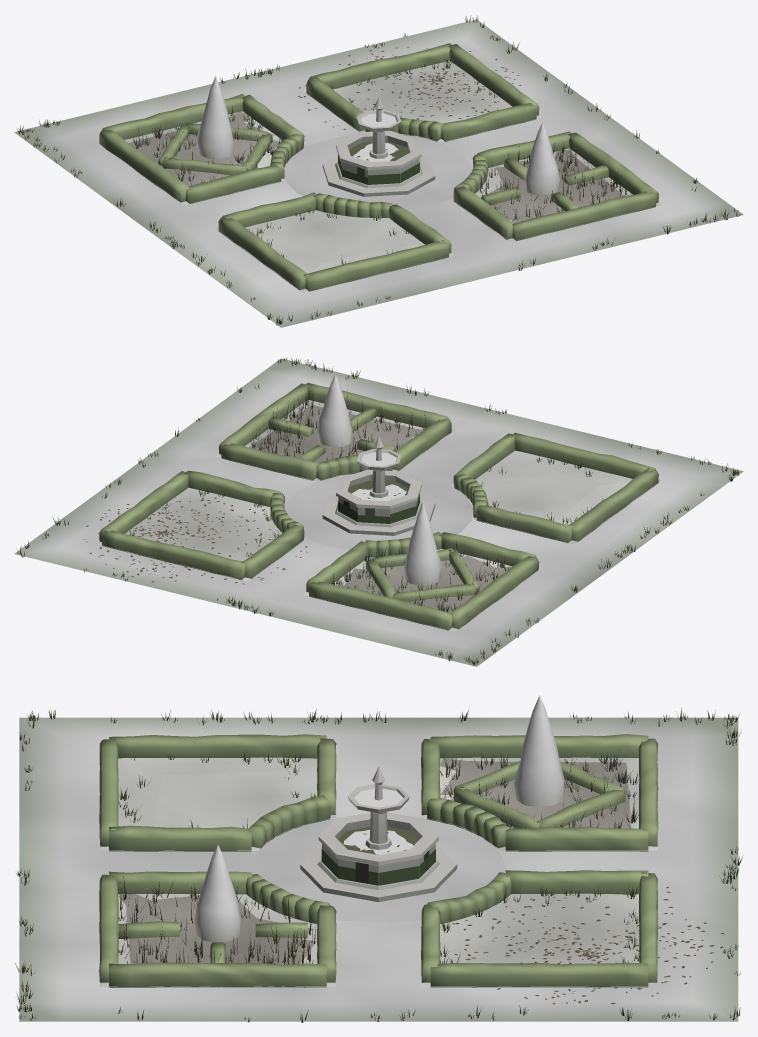
Rendered from env_cloister_garth.glb.
The picture shows the model from 3 angles, top to bottom: view 1: azimuth 30°, elevation 25°; view 2: azimuth 150°, elevation 25°; view 3: azimuth 270°, elevation 25°; orthographic projection. The views are drawn at different scales.
Parts seen in each view (by area): view 1: Ground, Hedges, Basin, Growth, Yews, Litter; view 2: Ground, Hedges, Basin, Growth, Yews, Litter; view 3: Ground, Hedges, Basin, Growth, Yews, Litter.
Boxes of the visible parts, <box> form: Ground: <box>14,19,743,327</box>; Hedges: <box>99,43,658,291</box>; Basin: <box>322,97,435,196</box>; Growth: <box>17,15,739,325</box>; Yews: <box>196,76,559,195</box>; Litter: <box>298,46,520,184</box>; Ground: <box>14,358,743,666</box>; Hedges: <box>99,383,658,630</box>; Basin: <box>322,436,435,535</box>; Growth: <box>16,358,739,665</box>; Yews: <box>316,374,442,585</box>; Litter: <box>83,480,419,584</box>; Ground: <box>19,717,738,1021</box>; Hedges: <box>99,734,658,987</box>; Basin: <box>300,767,457,901</box>; Growth: <box>15,707,743,1022</box>; Yews: <box>194,695,564,942</box>; Litter: <box>321,827,724,1004</box>.
Bounding box in the file's own units: 15.38 × 2.51 × 15.43.
